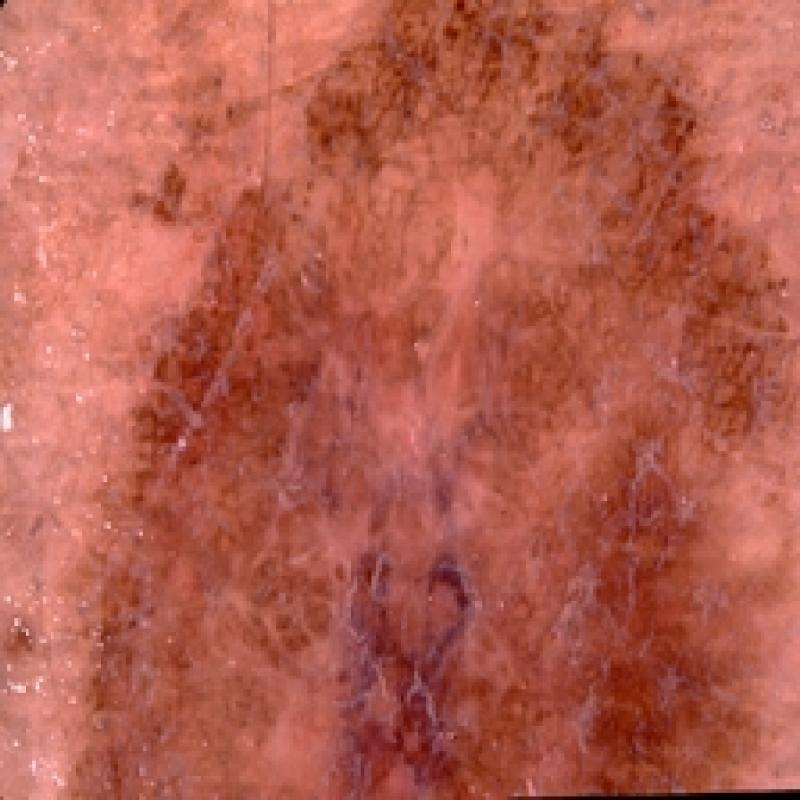malignant: (106, 5, 755, 798)
